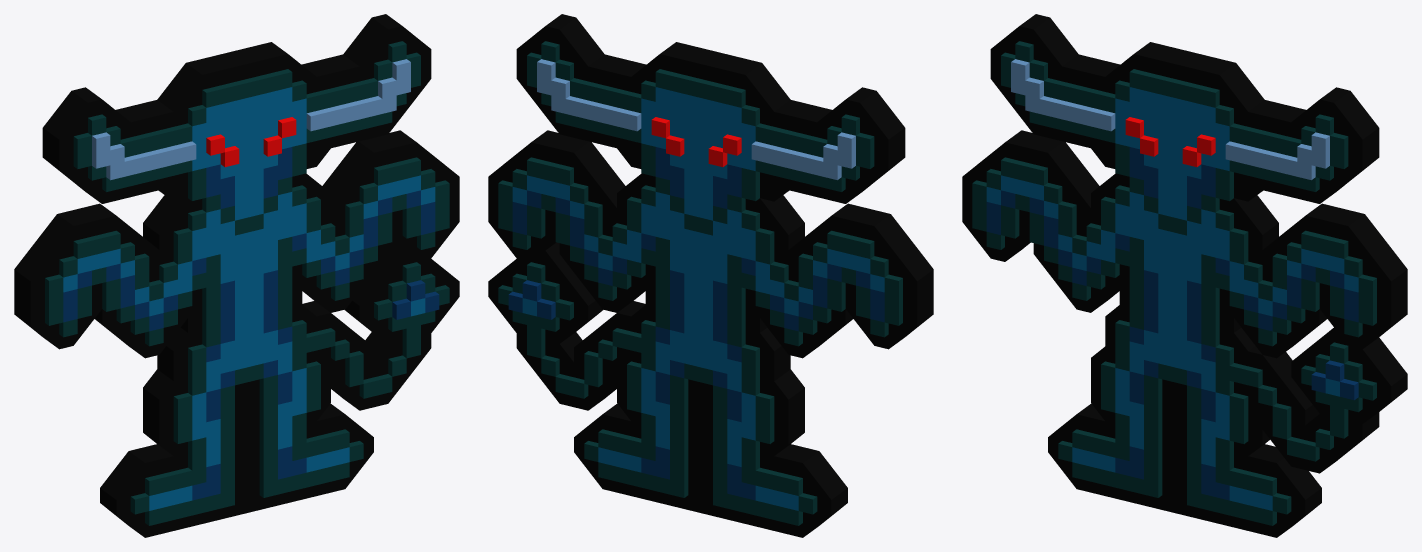
File: blue demon.glb
3 renders of one model, left to right at view 1: azimuth 30°, elevation 25°; view 2: azimuth 150°, elevation 25°; view 3: azimuth 330°, elevation 25°, orthographic.
Visible parts, largest first — view 1: generated(Clone); view 2: generated(Clone); view 3: generated(Clone).
Boxes of the visible parts, x1,y1,x2,y2 form: generated(Clone): [14, 14, 459, 537]; generated(Clone): [488, 14, 933, 537]; generated(Clone): [962, 14, 1407, 537].
Bounding box in the file's own units: 30 × 30 × 4.
